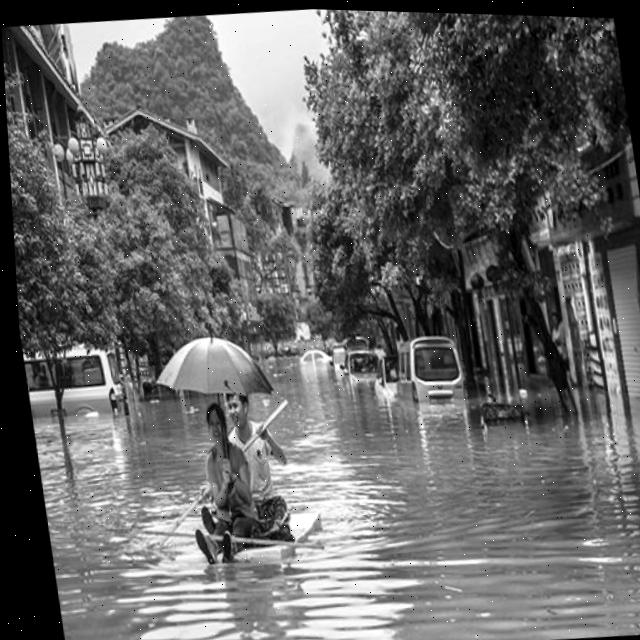civilian: (183, 380, 308, 562), (164, 394, 271, 571), (541, 299, 579, 377)
